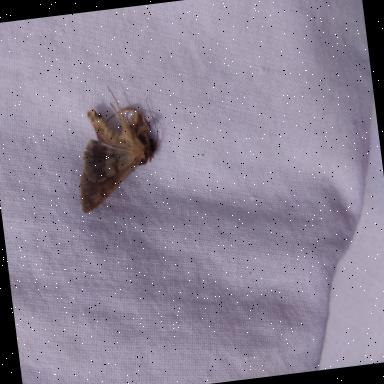abw: (66, 80, 172, 214)
